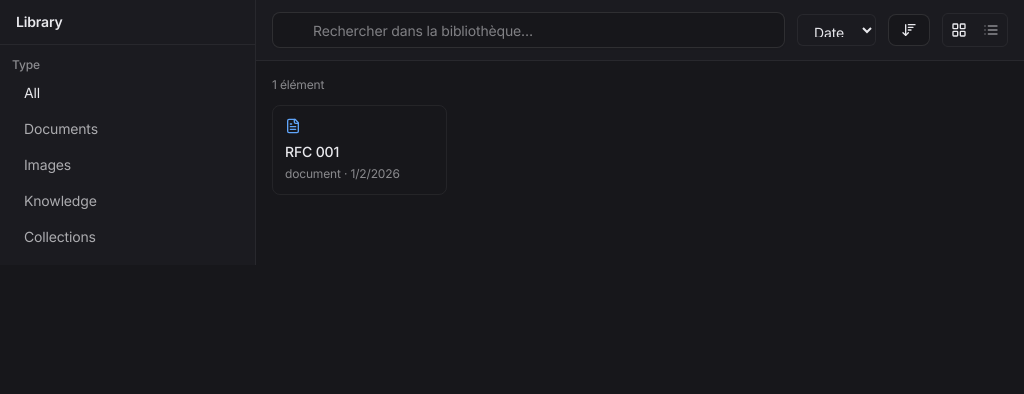
LibraryWorkspace — affichage des ressources du Core › sélection : détail avec contenu et métadonnées réels
Step 1. Click the heading "RFC 001" → click(312, 152), box [285,142,339,162]
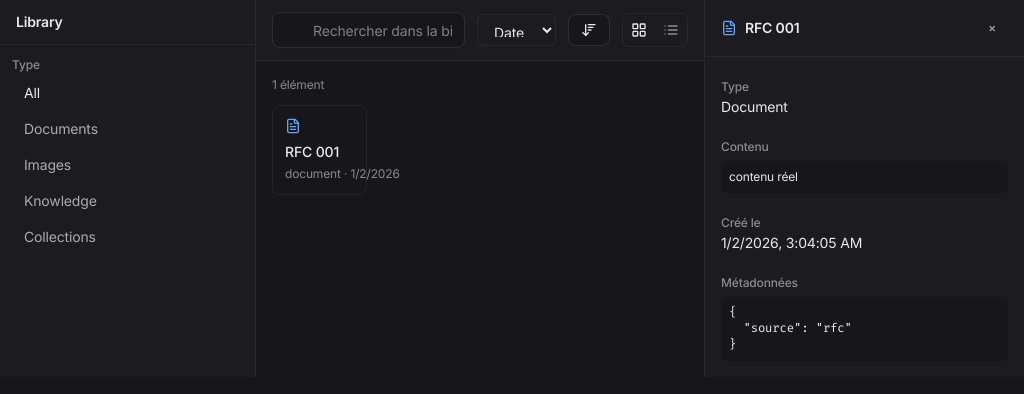
Now the text "Contenu" is shown, box [721,139,769,154]
Now the text "contenu réel" is shown, box [721,161,1008,193]
Now the text "Métadonnées" is shown, box [721,275,798,290]
